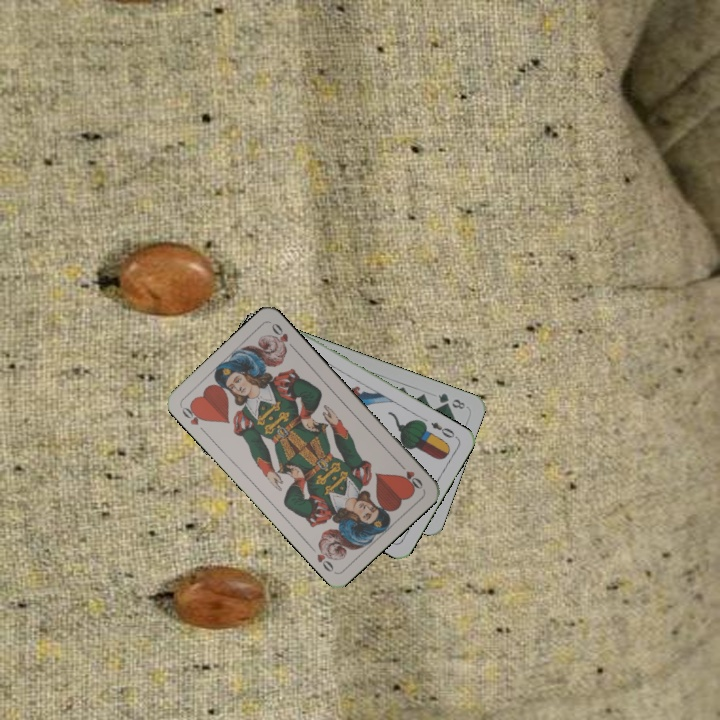EO: (427, 418, 460, 441)
G8: (434, 389, 468, 412)
HO: (178, 400, 209, 436), (394, 459, 426, 492)
